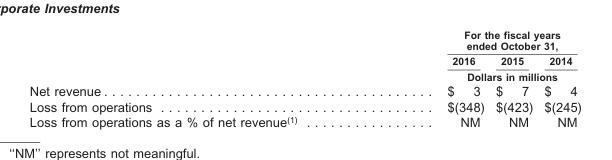table: (28, 28, 580, 128)
table column: (28, 28, 371, 128), (371, 28, 489, 128), (489, 28, 537, 128), (537, 28, 580, 128)
table column header: (28, 28, 580, 82)
table row: (28, 28, 580, 52), (28, 52, 580, 68), (28, 82, 580, 98), (28, 98, 580, 113), (28, 113, 580, 128), (28, 68, 580, 82)
table spanning cell: (371, 28, 580, 52), (371, 68, 580, 82)
